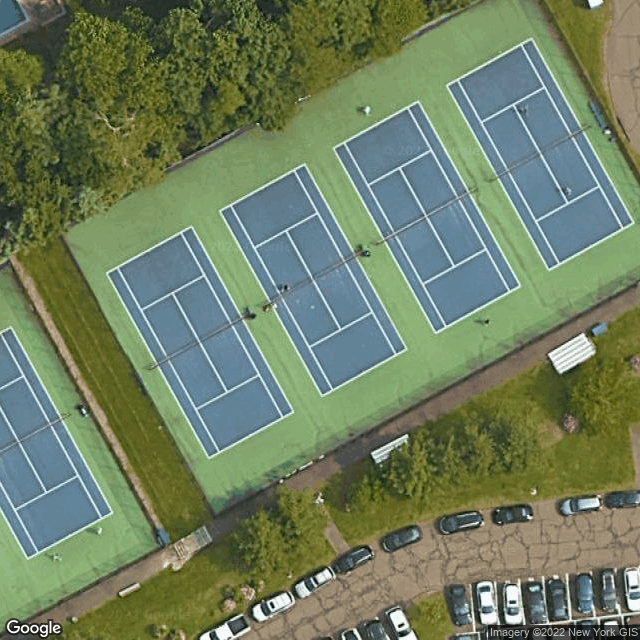Court: (332, 99, 522, 336), (217, 164, 409, 397), (105, 226, 295, 460), (446, 39, 636, 272), (0, 326, 115, 560)
